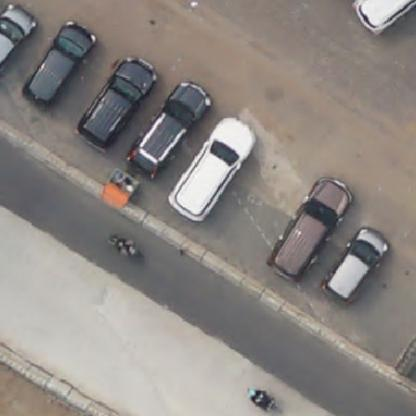car: (173, 118, 254, 222), (274, 179, 336, 276), (82, 59, 155, 140), (132, 85, 207, 163), (22, 24, 90, 101), (332, 223, 391, 306), (351, 0, 415, 38), (0, 3, 32, 65)
motorcycle: (103, 229, 147, 263), (245, 385, 290, 415)
